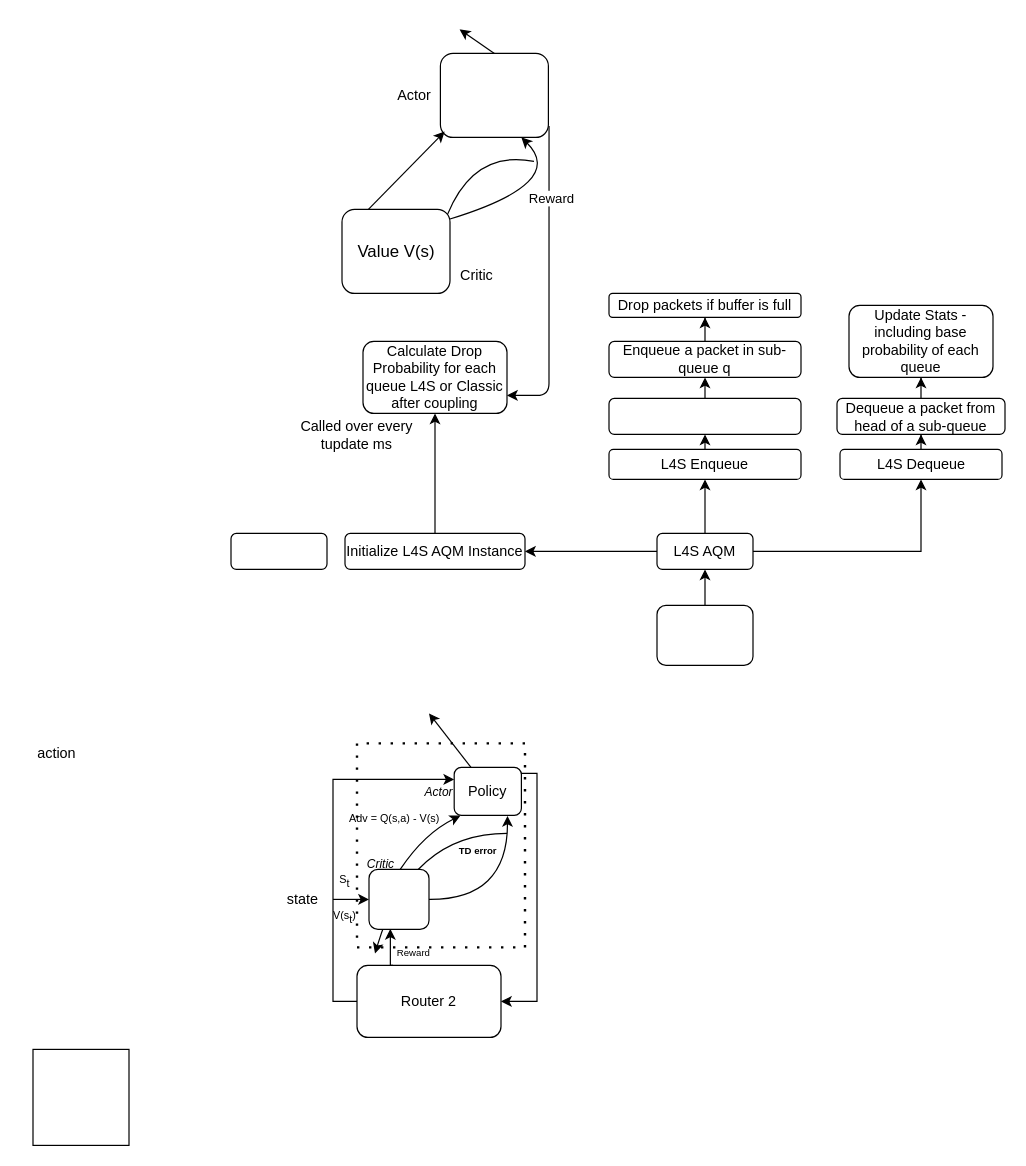
The diagram is 1026 pixels wide and 1166 high, and some of its shapes have lost their labels. Each missing label, with the centre of its shape:
"Get L4S Configuration" belongs at (278,550).
"Global Parameters θ" belongs at (80,1096).
"IP-ECN Classify Flow into L4S and Classic" belongs at (704,415).
"Network Environment" belongs at (704,634).
"Policy π(s)" belongs at (493,94).
"Value Function" belongs at (398,898).
